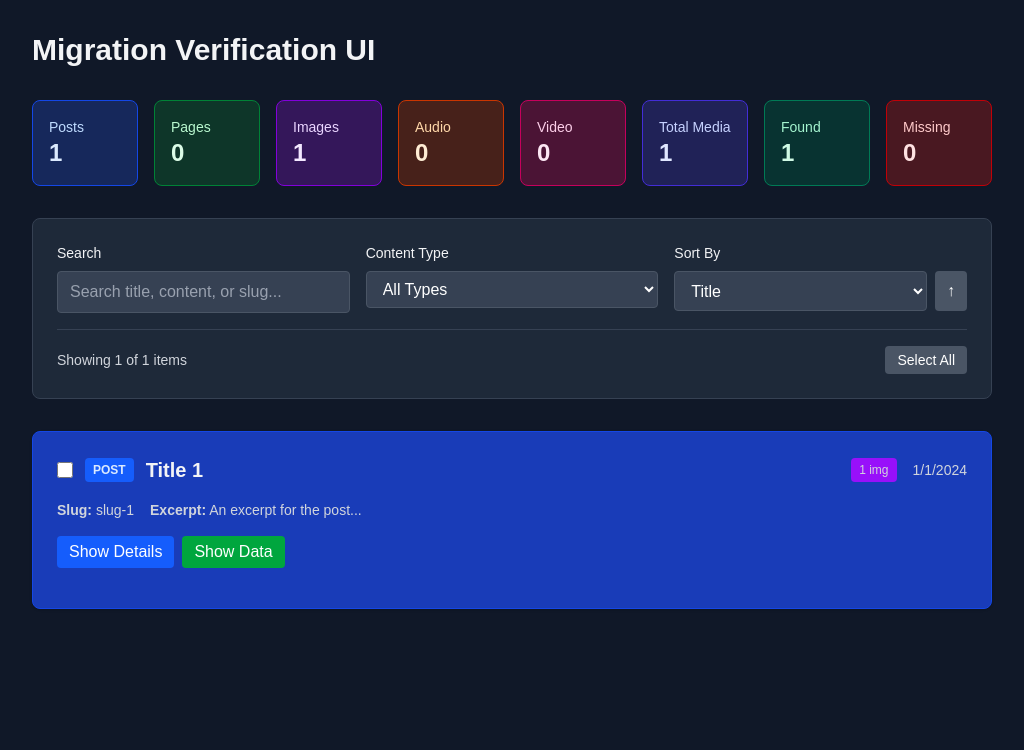
VerifyMigrationUI — details and data toggling › shows / hides the per-record Details and Data panels
Check: the heading "Title 1" is shown, box 146,459 -> 203,481
Click the button "Show Details".
click(116, 552)  # box 57,536 -> 174,568
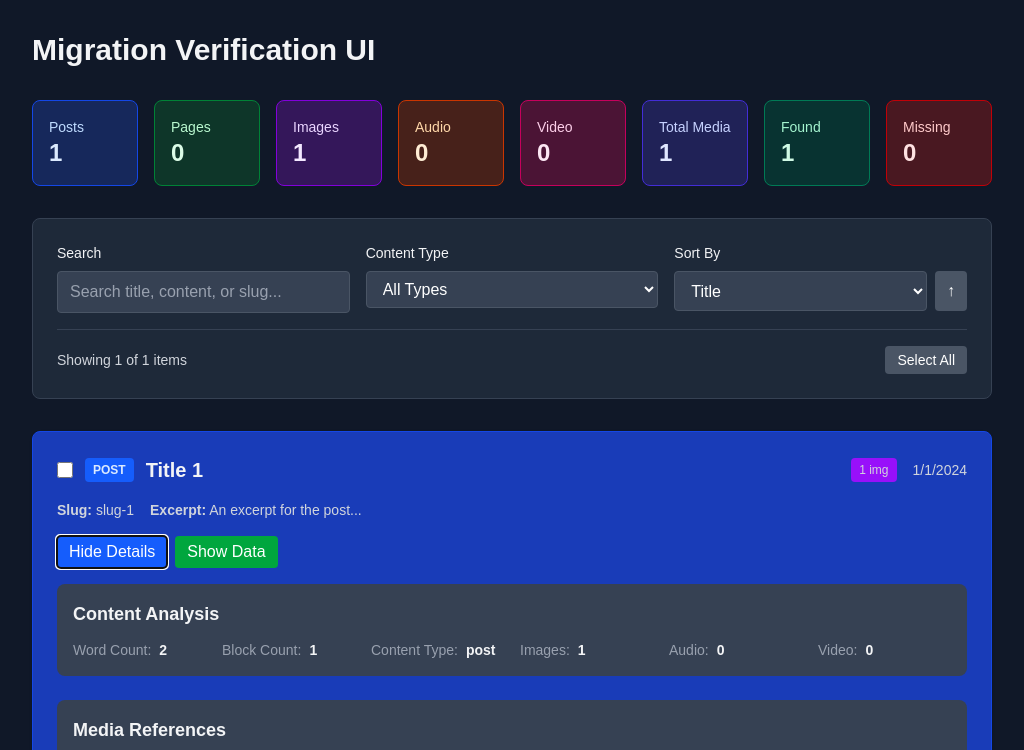
Check: the heading "Content Analysis" is shown, box 73,604 -> 219,624
Check: the heading "Media References" is shown, box 73,720 -> 226,740
Click the button "Hide Details".
click(112, 552)  # box 57,536 -> 167,568
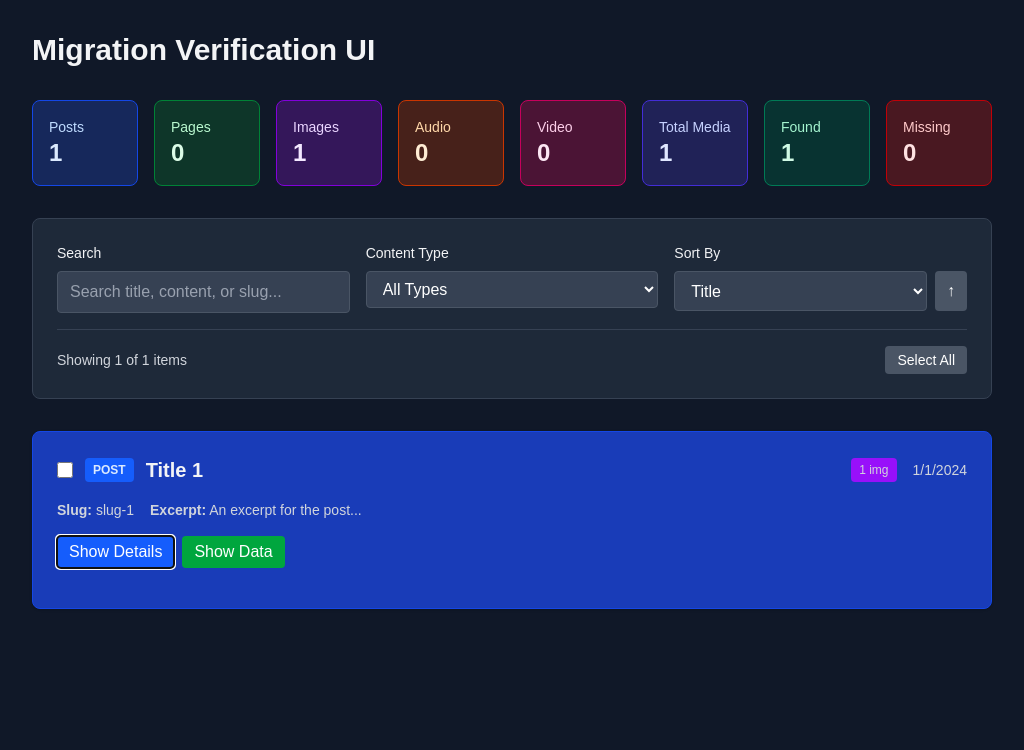
Check: the heading "Content Analysis" is gone
Click the button "Show Data".
click(234, 552)  # box 182,536 -> 285,568
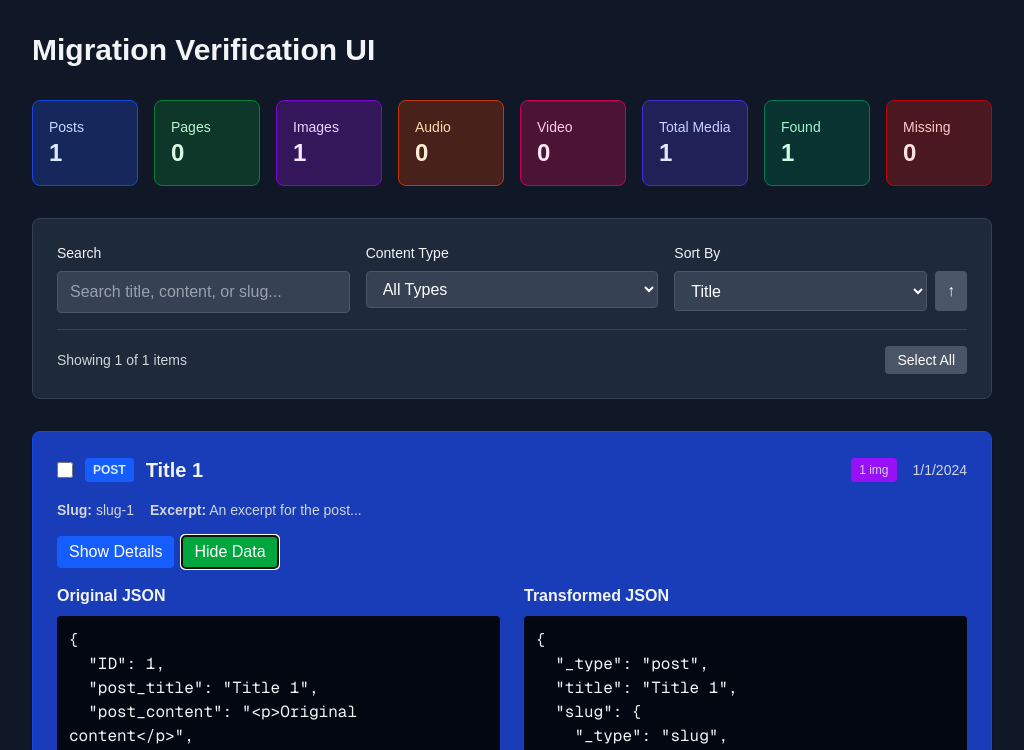
Check: the heading "Original JSON" is shown, box 57,587 -> 166,604
Click the button "Hide Data".
click(230, 552)  # box 182,536 -> 278,568
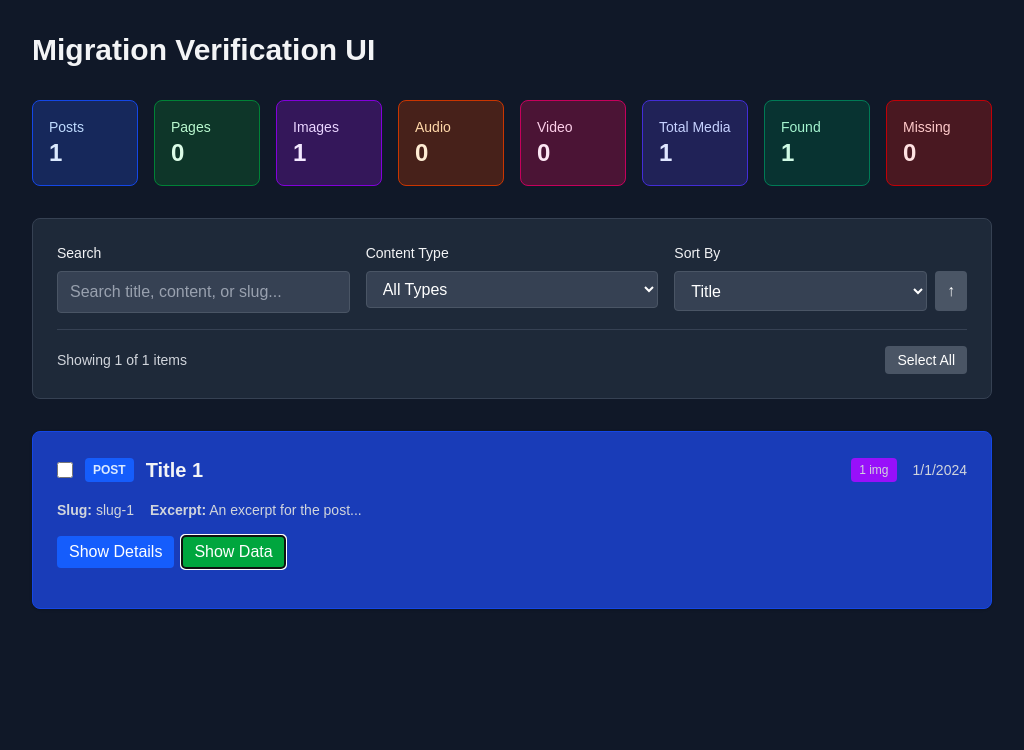
Check: the heading "Original JSON" is gone
